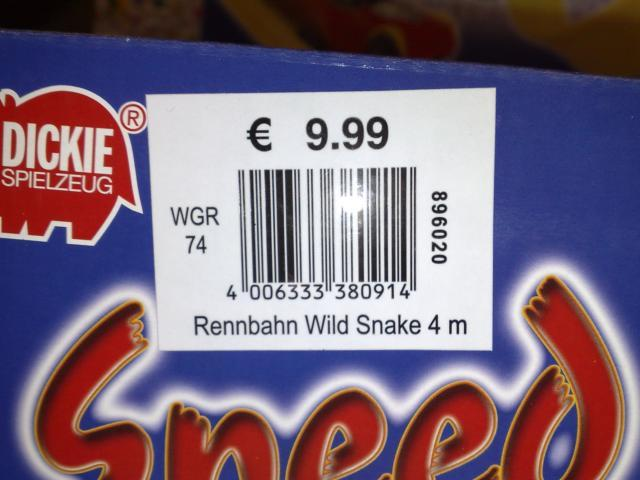Barcode: (222, 163, 423, 309)
